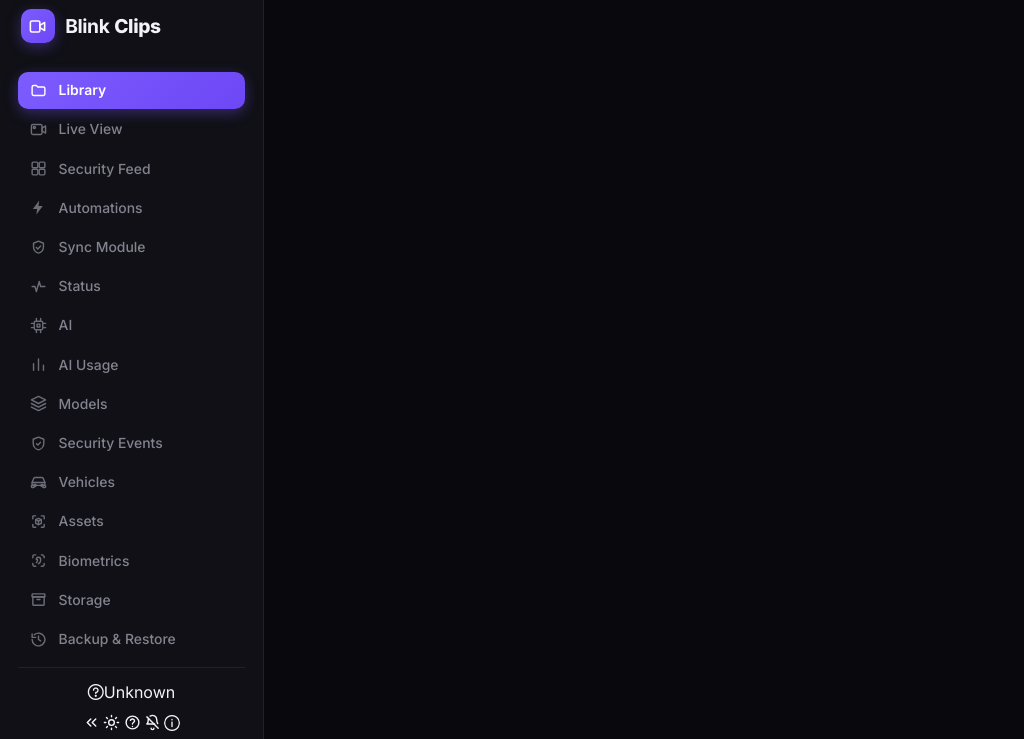
Test: App › switches to the Biometrics tab and mounts BiometricsPage
The width and height of the screenshot is (1024, 739).
Click the button "Biometrics" at (132, 561), box [18,542,245,579]
(page scrolled)
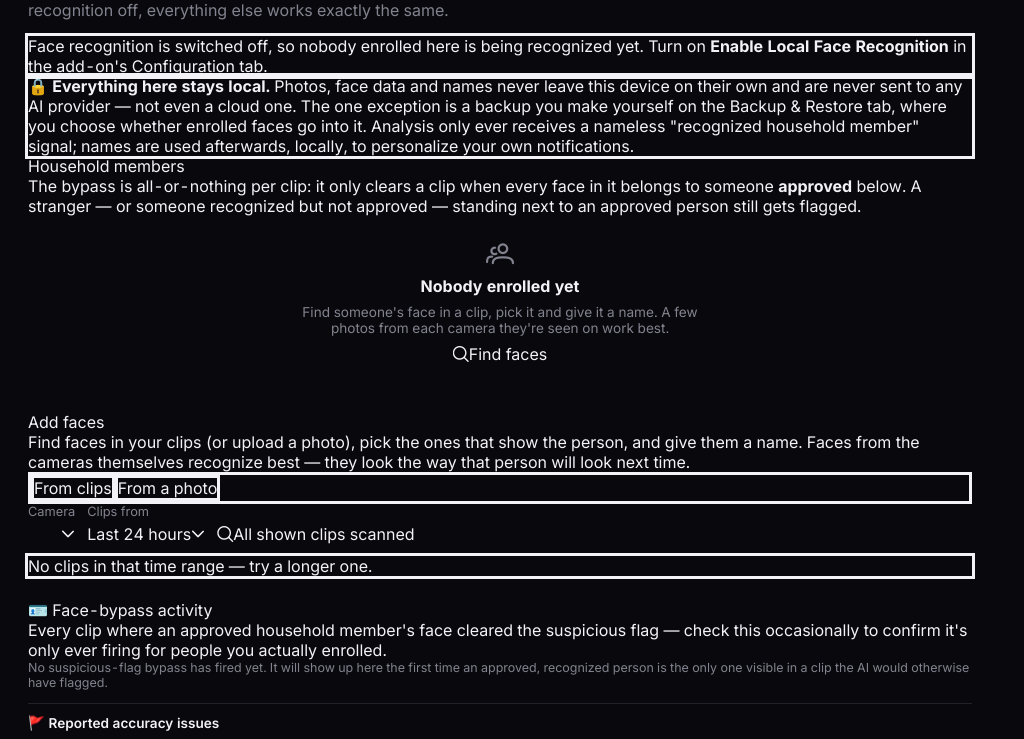
Expected: the text "stays local" is shown, [28,76,270,96]
